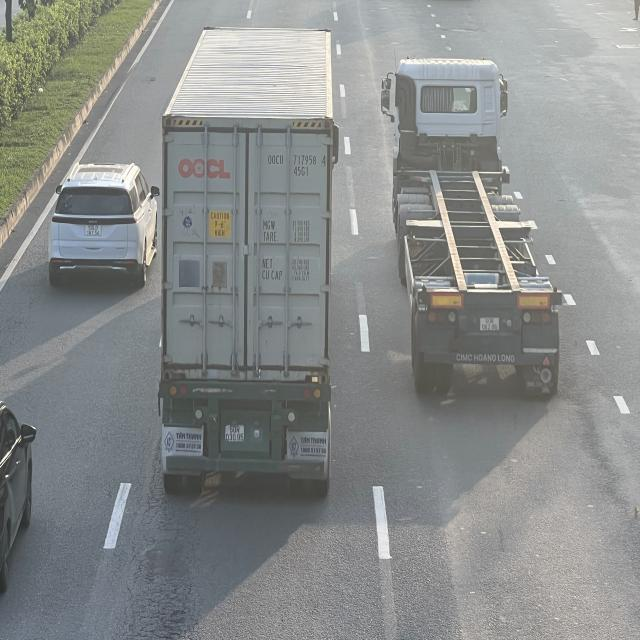car: (47, 162, 160, 288)
container: (160, 22, 330, 499), (387, 61, 560, 393)
